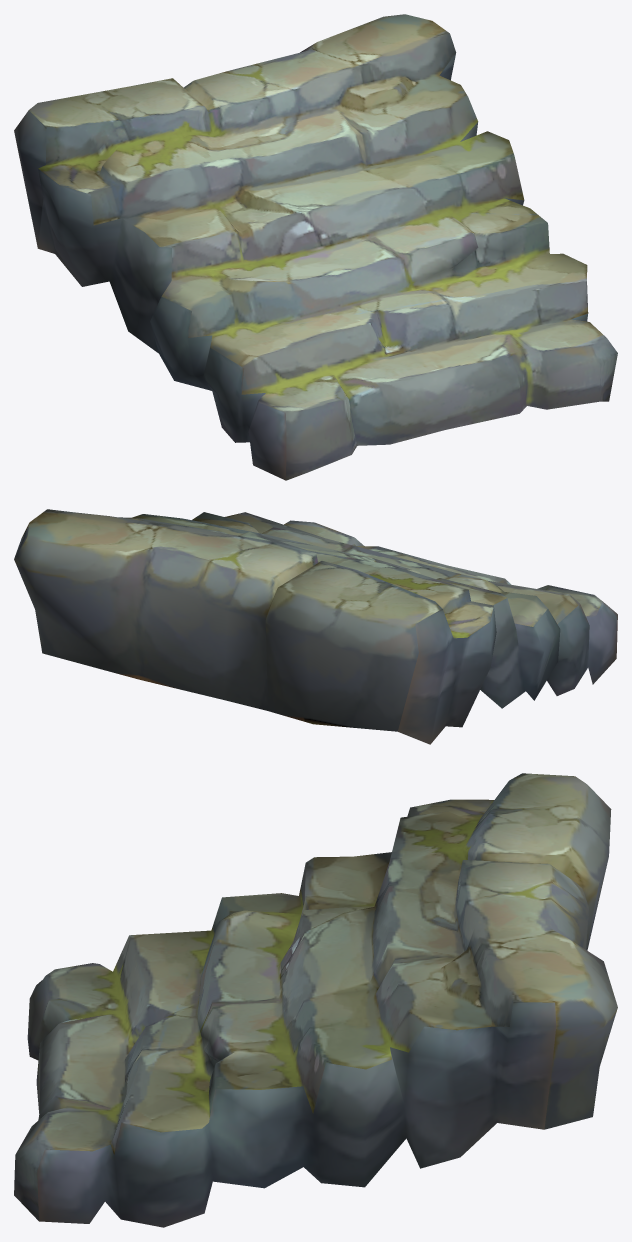
Rendered from Map_07_stone01.FBX.
The picture shows the model from 3 angles, top to bottom: view 1: azimuth 30°, elevation 25°; view 2: azimuth 150°, elevation 25°; view 3: azimuth 270°, elevation 25°; orthographic projection. The views are drawn at different scales.
Visible parts, largest first — view 1: Map_07_stone01; view 2: Map_07_stone01; view 3: Map_07_stone01.
Part boxes in pixels (x1,y1,x2,y2): Map_07_stone01: (14,14,617,480); Map_07_stone01: (14,509,617,744); Map_07_stone01: (14,773,617,1227).
Bounding box in the file's own units: 187 × 90.99 × 197.
1 material, 1 textured.
